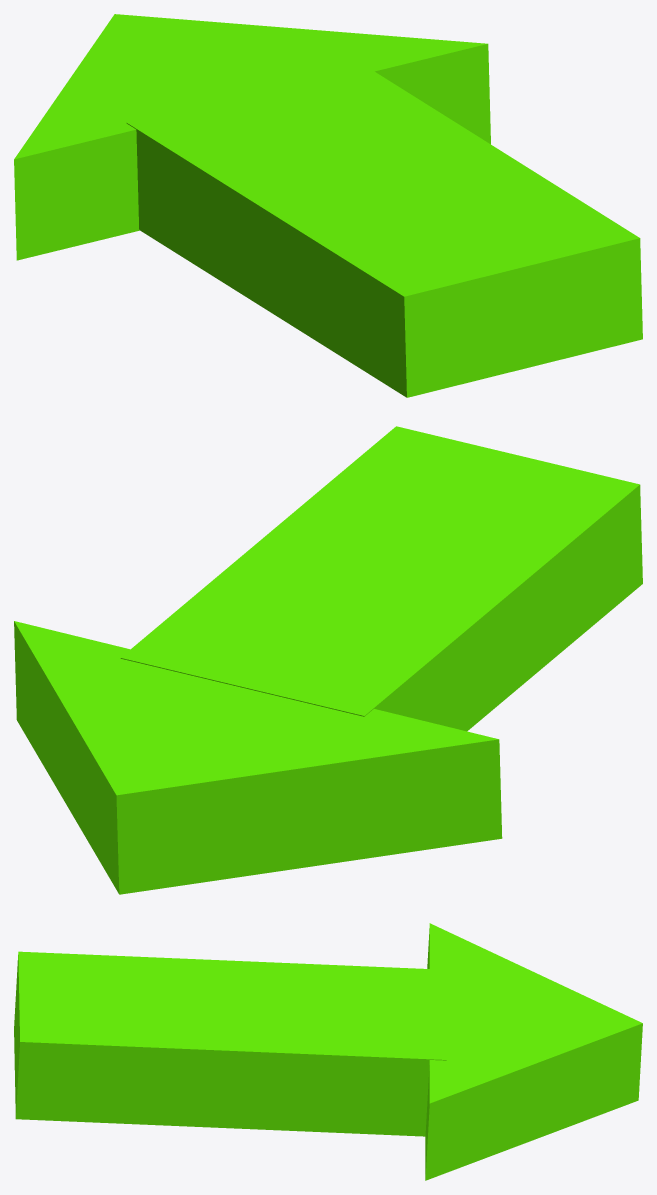
Rendered from 02_Direction_Arrow.fbx.
3 views of the same model, one above another, from view 1: azimuth 30°, elevation 25°; view 2: azimuth 150°, elevation 25°; view 3: azimuth 270°, elevation 25° (orthographic). The views are drawn at different scales.
Visible parts, largest first — view 1: polySurface1; view 2: polySurface1; view 3: polySurface1.
Part boxes in pixels (box(x1,y1,x2,y2)): polySurface1: box(14, 14, 642, 397); polySurface1: box(14, 426, 642, 894); polySurface1: box(14, 923, 642, 1180).
Bounding box in the file's own units: 35.56 × 9.8 × 52.39.
